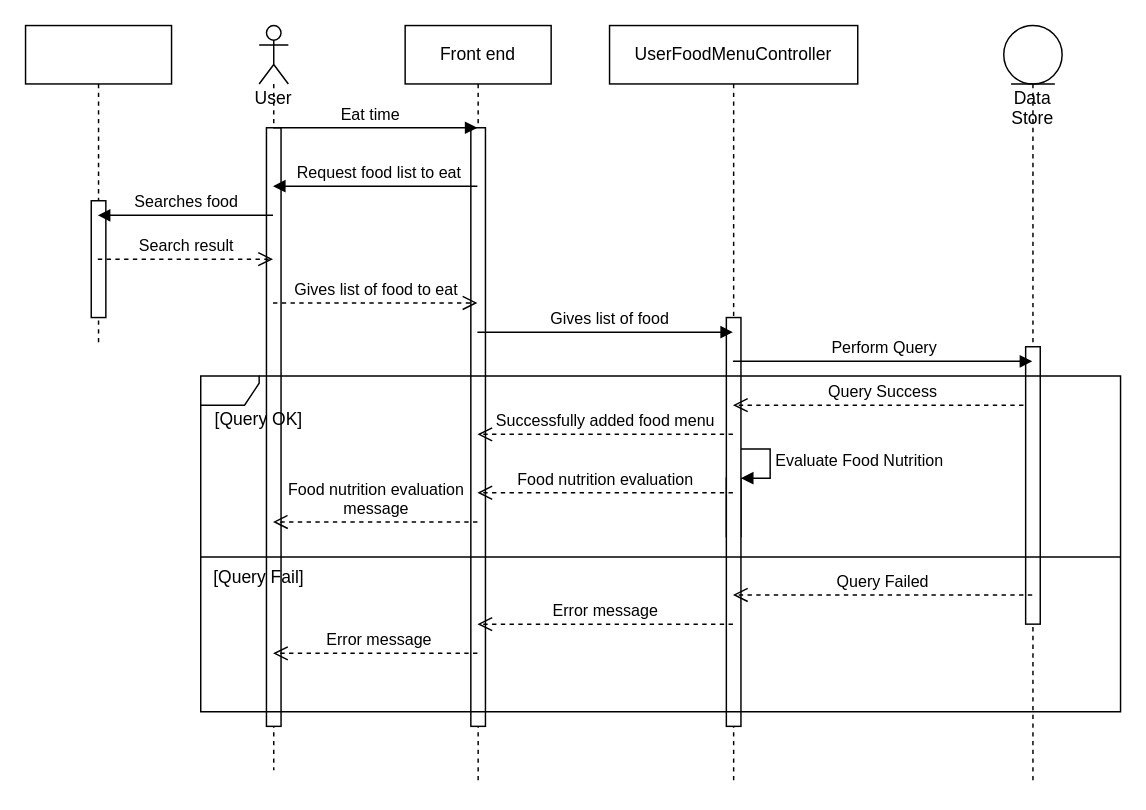
This 1146x810 diagram has some shape labels left out. Here are the shapes that lost their labels. From the top down, the centre of each, then its label:
At point 98,185: "FoodSearch".
At point 660,543: "alt".
